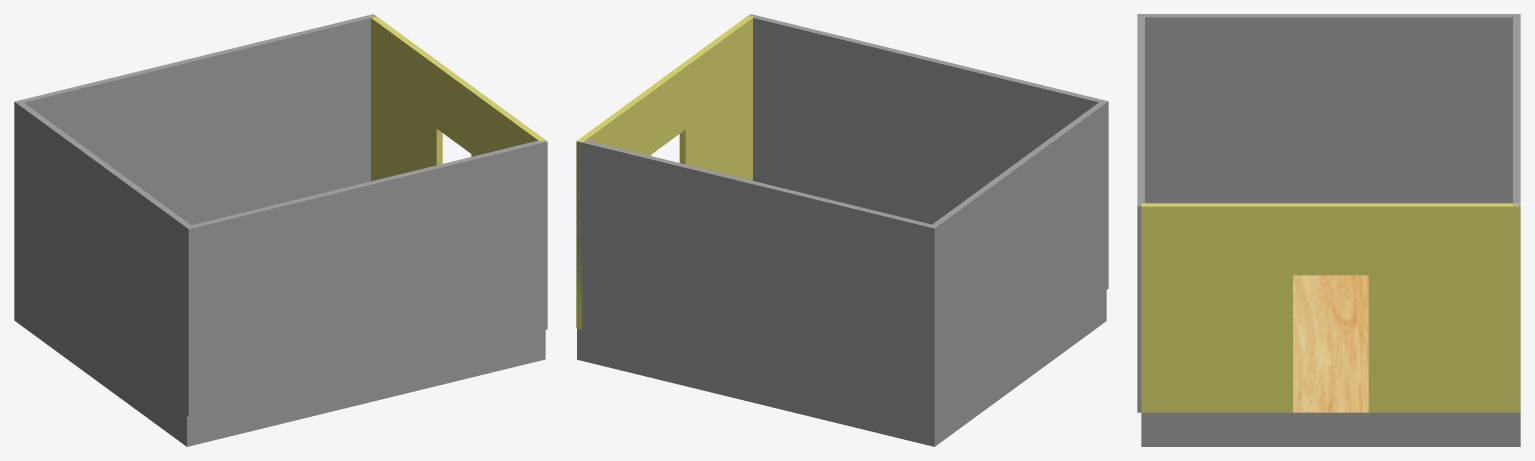
The model's file is KidsRoom.fbx.
3 renders of one model, left to right at view 1: azimuth 30°, elevation 25°; view 2: azimuth 150°, elevation 25°; view 3: azimuth 270°, elevation 25°, orthographic. The views are drawn at different scales.
Visible parts, largest first — view 1: pCube48, pCube8, pCube12, pCube1, polySurface4; view 2: pCube8, pCube48, pCube12, pCube1, polySurface4; view 3: pCube12, polySurface4, pCube1, pCube48, pCube8.
Part boxes in pixels (<box>): pCube48: <box>185,139,547,416</box>; pCube8: <box>14,14,375,291</box>; pCube12: <box>14,102,192,414</box>; pCube1: <box>14,289,545,446</box>; polySurface4: <box>369,14,545,181</box>; pCube8: <box>577,140,937,415</box>; pCube48: <box>748,14,1108,289</box>; pCube12: <box>929,102,1106,415</box>; pCube1: <box>577,290,1106,446</box>; polySurface4: <box>576,15,753,329</box>; pCube12: <box>1141,14,1520,203</box>; polySurface4: <box>1141,203,1520,412</box>; pCube1: <box>1141,275,1520,446</box>; pCube48: <box>1137,14,1144,412</box>; pCube8: <box>1513,14,1520,206</box>.
Bounding box in the file's own units: 6.01 × 3.5 × 5.05.
